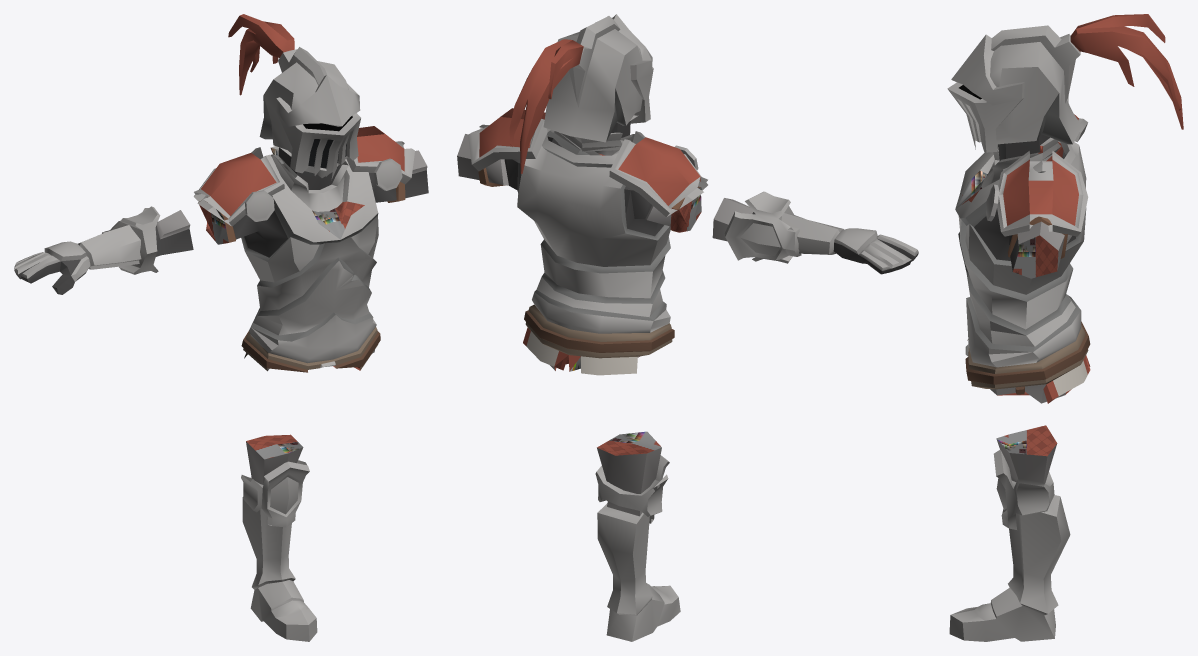
The model's file is dismember.fbx.
3 views of the same model, side by side, from view 1: azimuth 30°, elevation 25°; view 2: azimuth 150°, elevation 25°; view 3: azimuth 270°, elevation 25° (orthographic). The views are drawn at different scales.
Visible parts, largest first — view 1: Character_Hero_Knight_Male_3, Character_Hero_Knight_Male_4, Character_Hero_Knight_Male_2, Character_Hero_Knight_Male_1; view 2: Character_Hero_Knight_Male_3, Character_Hero_Knight_Male_4, Character_Hero_Knight_Male_2, Character_Hero_Knight_Male_1; view 3: Character_Hero_Knight_Male_3, Character_Hero_Knight_Male_4, Character_Hero_Knight_Male_2.
Part boxes in pixels (<box>): Character_Hero_Knight_Male_3: <box>193,126,428,372</box>; Character_Hero_Knight_Male_4: <box>228,14,360,189</box>; Character_Hero_Knight_Male_2: <box>241,434,317,641</box>; Character_Hero_Knight_Male_1: <box>14,206,193,294</box>; Character_Hero_Knight_Male_3: <box>457,108,707,375</box>; Character_Hero_Knight_Male_4: <box>509,14,653,173</box>; Character_Hero_Knight_Male_2: <box>595,431,680,641</box>; Character_Hero_Knight_Male_1: <box>712,191,918,274</box>; Character_Hero_Knight_Male_3: <box>955,114,1090,403</box>; Character_Hero_Knight_Male_4: <box>947,14,1183,160</box>; Character_Hero_Knight_Male_2: <box>949,425,1070,641</box>.
Bounding box in the file's own units: 1.43 × 1.89 × 0.6382.
Materials: 4 (4 with a texture image).
